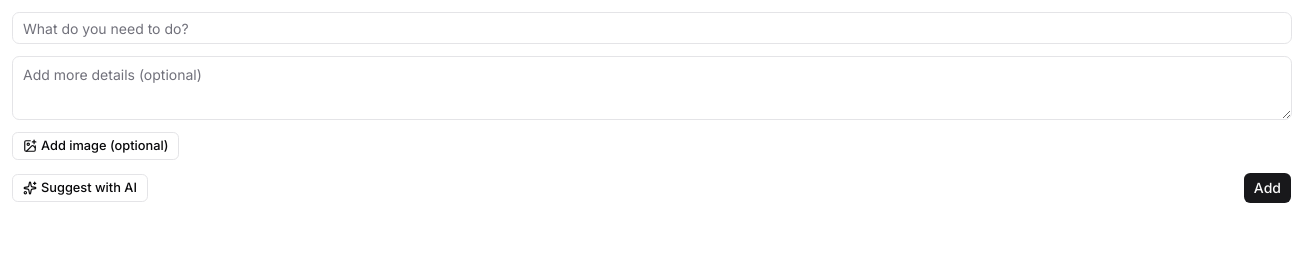
Test: TodoForm › shows AI suggestions as clickable chips that fill the form
Click the button "Suggest with AI" at (80, 188), box [12,174,148,202]
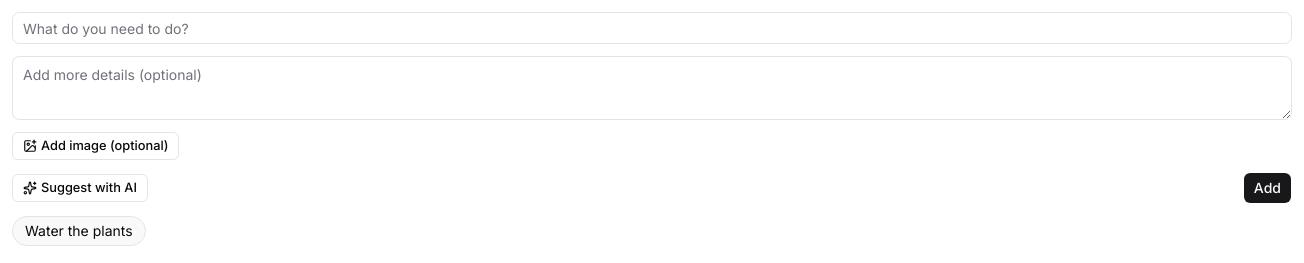
Click the button "Water the plants" at (79, 231), box [12,216,146,246]
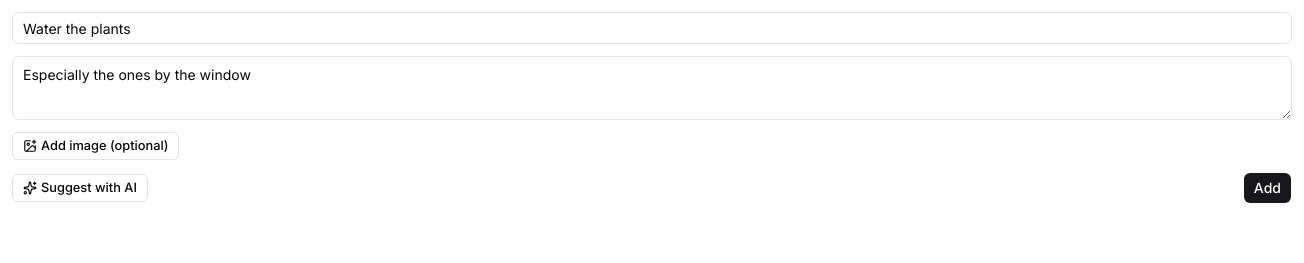
Expected: the field with placeholder "What do you need to do?" holds "Water the plants", [12,12,1292,44]
Expected: the text box with placeholder "Add more details (optional)" holds "Especially the ones by the window", [12,56,1292,120]
